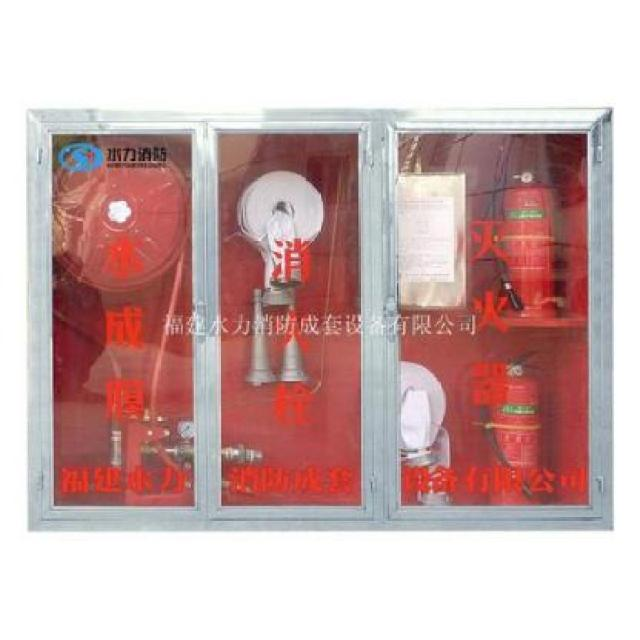firehydrant: (17, 98, 621, 540)
